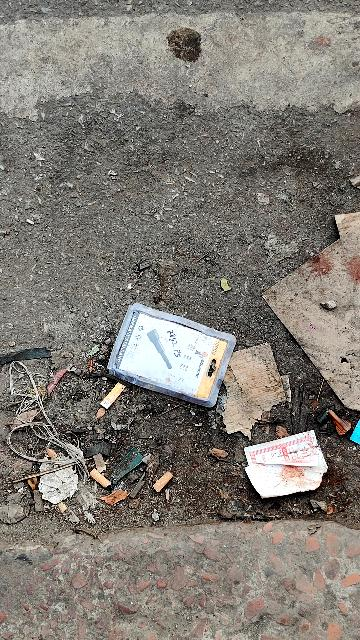packet: (100, 275, 229, 410)
